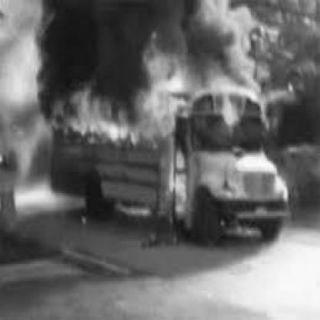Fire: (41, 64, 277, 200)
